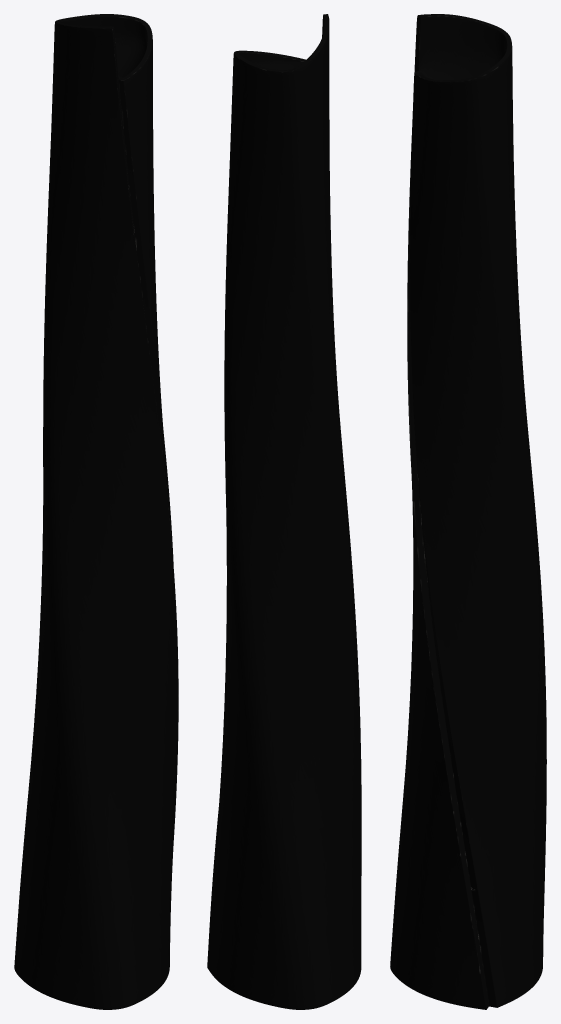
The model's file is torre-xangai.glb.
The picture shows the model from 3 angles, left to right: view 1: azimuth 30°, elevation 25°; view 2: azimuth 150°, elevation 25°; view 3: azimuth 270°, elevation 25°; orthographic projection. The views are drawn at different scales.
Visible parts, largest first — view 1: node_id69; view 2: node_id69; view 3: node_id69.
Part boxes in pixels (bbox=[...]): node_id69: bbox=[14, 14, 178, 1009]; node_id69: bbox=[207, 14, 361, 1009]; node_id69: bbox=[390, 14, 546, 1009].
Bounding box in the file's own units: 0.1454 × 0.9754 × 0.1454.
1 material, 1 textured.
